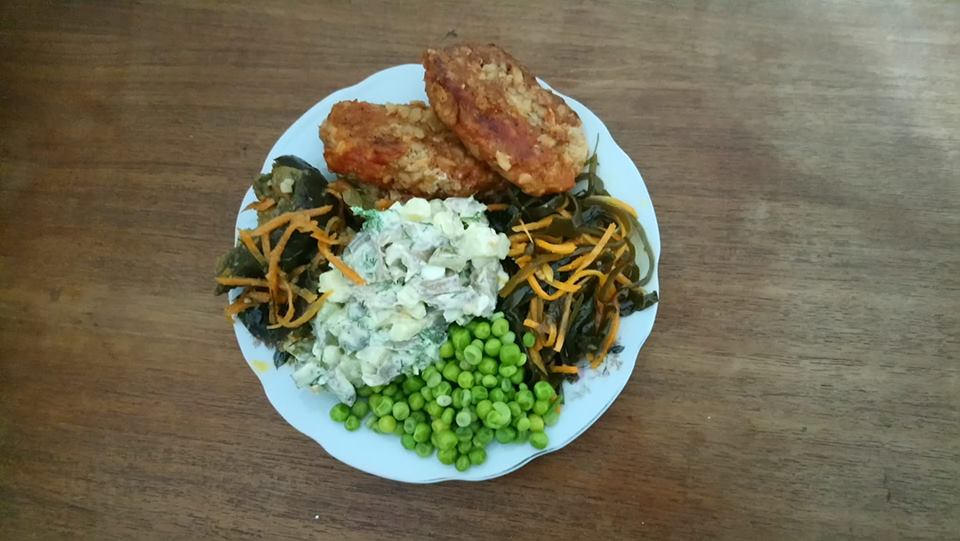boiled peas: (352, 334, 564, 478)
